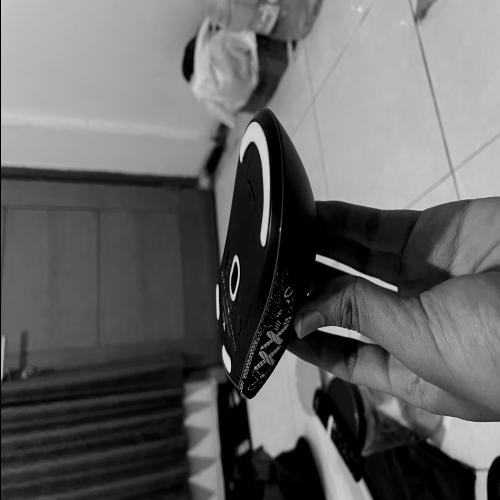Mouse: (195, 90, 327, 414)
